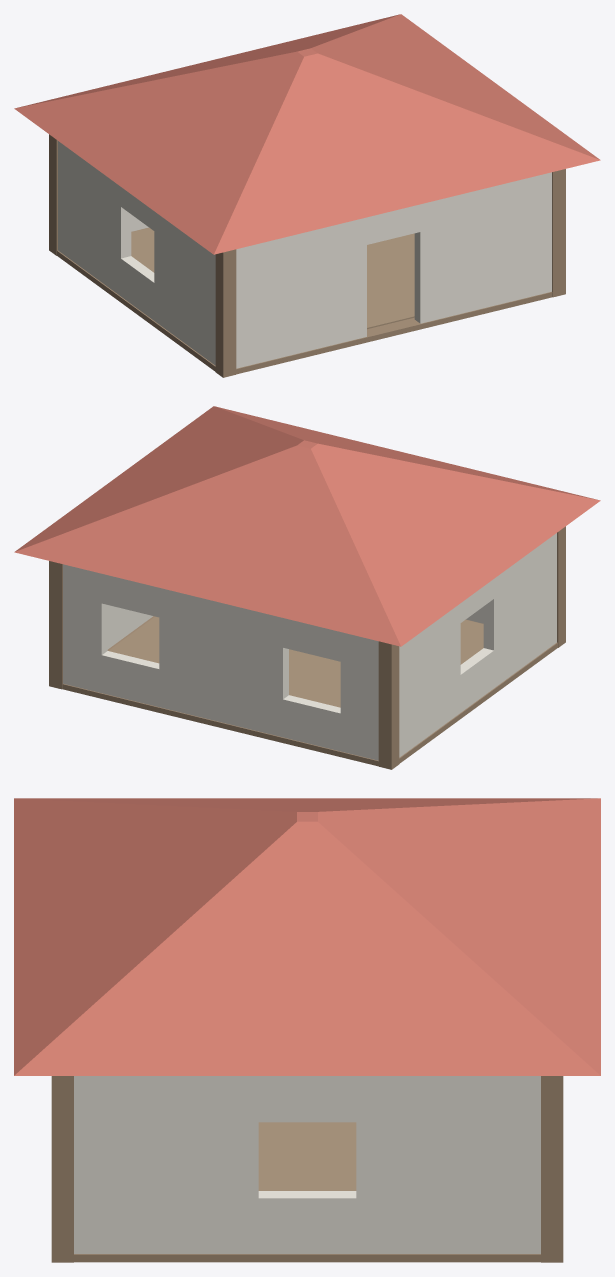
The model's file is house_a.glb.
3 views of the same model, one above another, from view 1: azimuth 30°, elevation 25°; view 2: azimuth 150°, elevation 25°; view 3: azimuth 270°, elevation 25° (orthographic). The views are drawn at different scales.
Parts seen in each view (by area): view 1: house_a; view 2: house_a; view 3: house_a.
Part boxes in pixels (x1,y1,x2,y2): house_a: [14, 14, 600, 377]; house_a: [14, 406, 600, 769]; house_a: [14, 798, 600, 1262].
Bounding box in the file's own units: 9.4 × 5.1 × 8.4.
